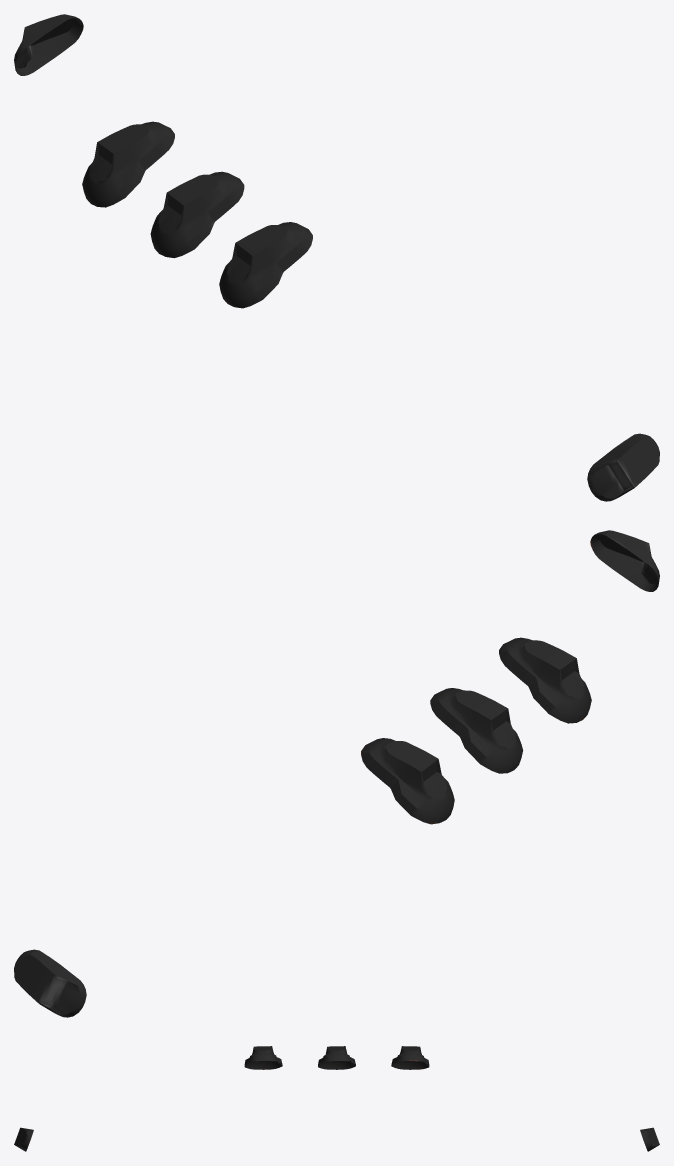
Rendered from Cabin_Identification_Lamp.glb.
The picture shows the model from 3 angles, top to bottom: view 1: azimuth 30°, elevation 25°; view 2: azimuth 150°, elevation 25°; view 3: azimuth 270°, elevation 25°; orthographic projection. The views are drawn at different scales.
Parts seen in each view (by area): view 1: Cabin:Identification_Lamp; view 2: Cabin:Identification_Lamp; view 3: Cabin:Identification_Lamp.
Boxes of the visible parts, x1,y1,x2,y2 form: Cabin:Identification_Lamp: (14,14,659,501); Cabin:Identification_Lamp: (14,530,659,1017); Cabin:Identification_Lamp: (14,1046,659,1151).
Bounding box in the file's own units: 0.4678 × 0.2851 × 2.28.
Materials: 1 (1 with a texture image).
